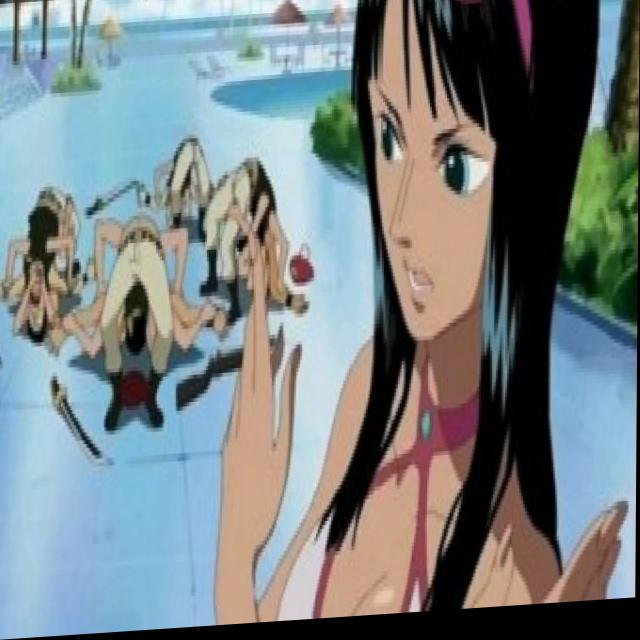NicoRobin: (345, 0, 577, 416)
